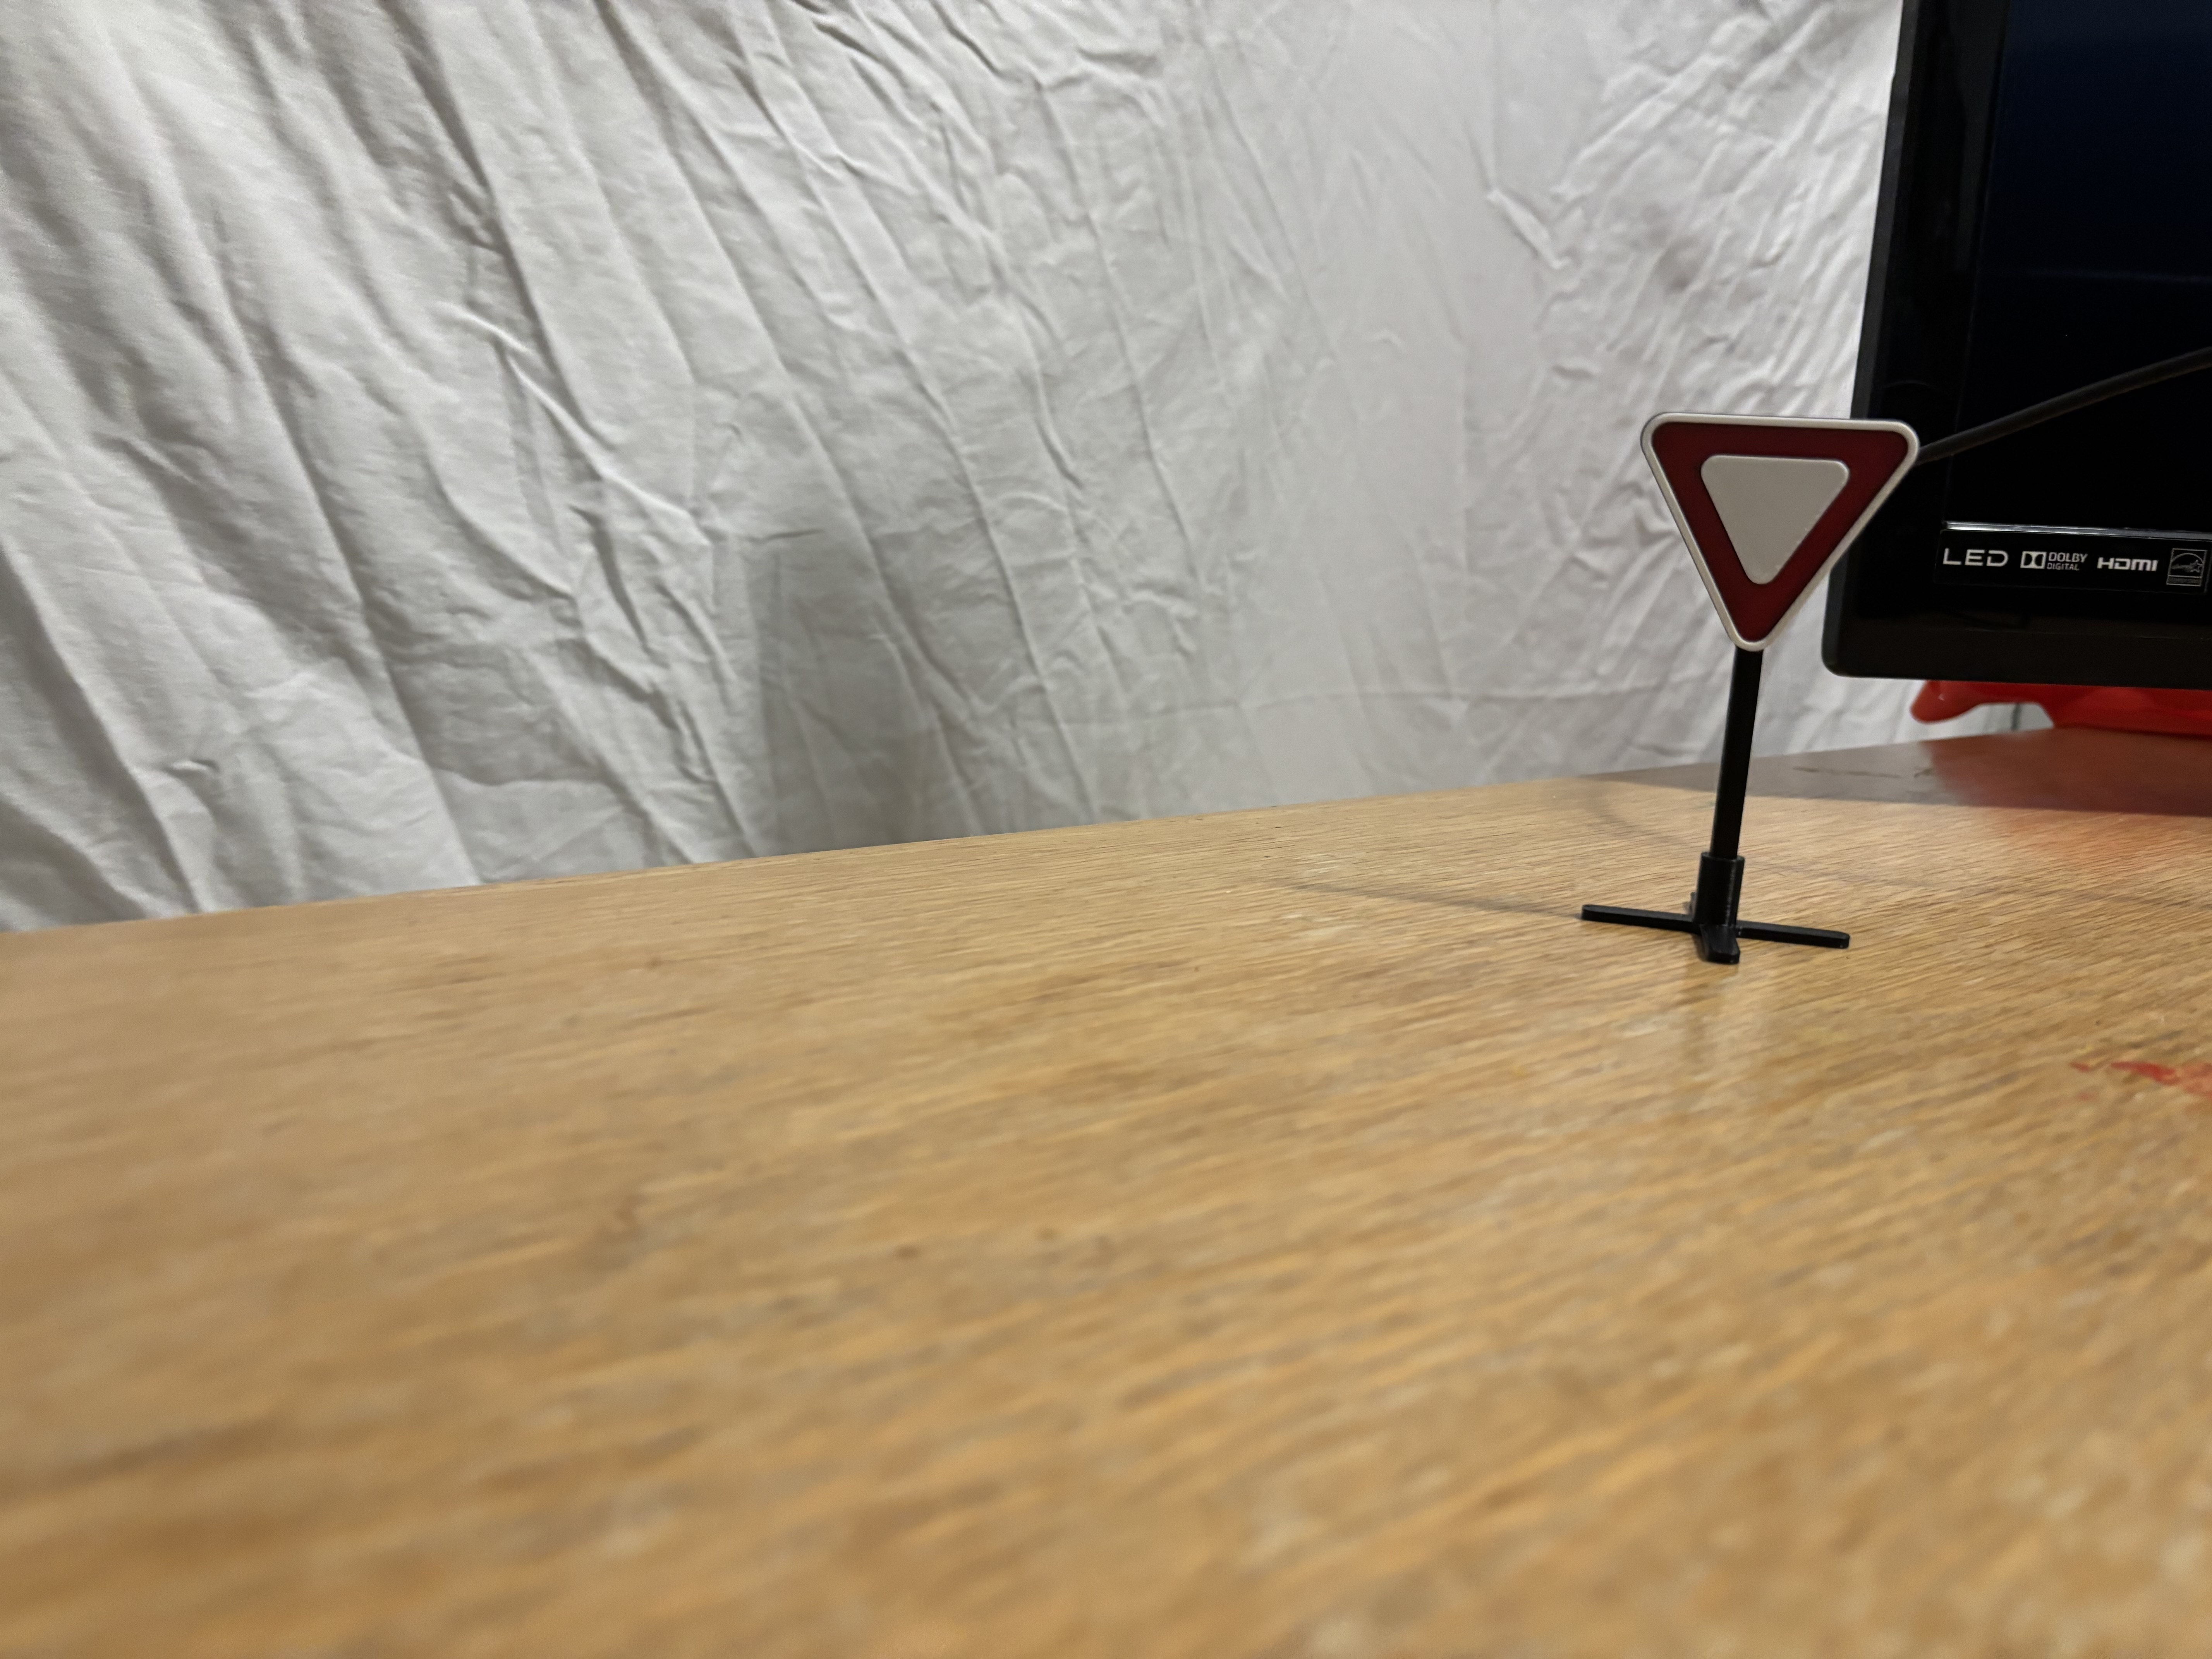sign_yield: (1629, 404, 1925, 652)
